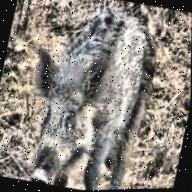boar: (5, 0, 191, 192)
